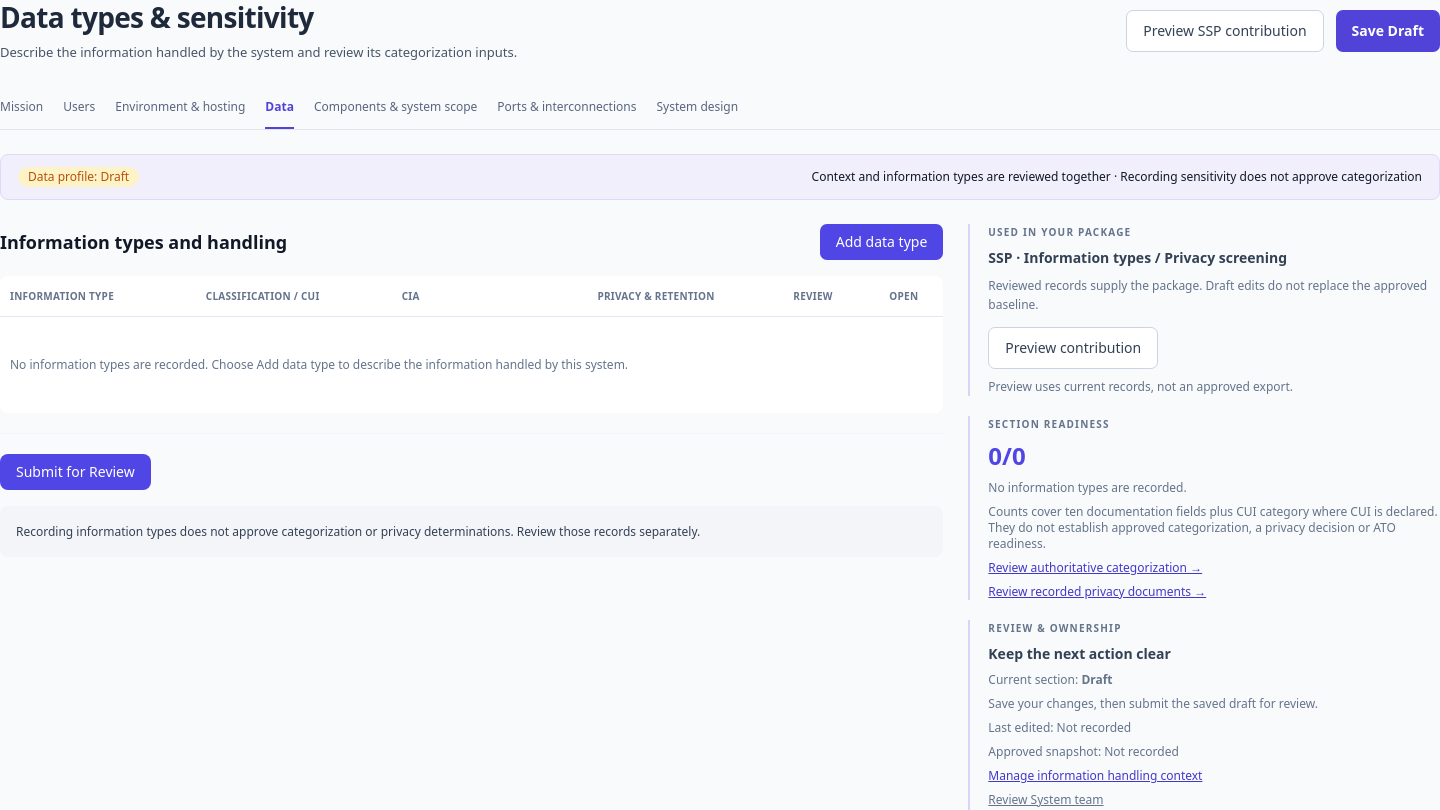
Test: server-authoritative profile editing (#968) › opens Data context separately from individual information types
The image size is (1440, 810).
Click the button "Manage information handling context" at point(1095, 776), box x1=988 y1=768 x2=1202 y2=784
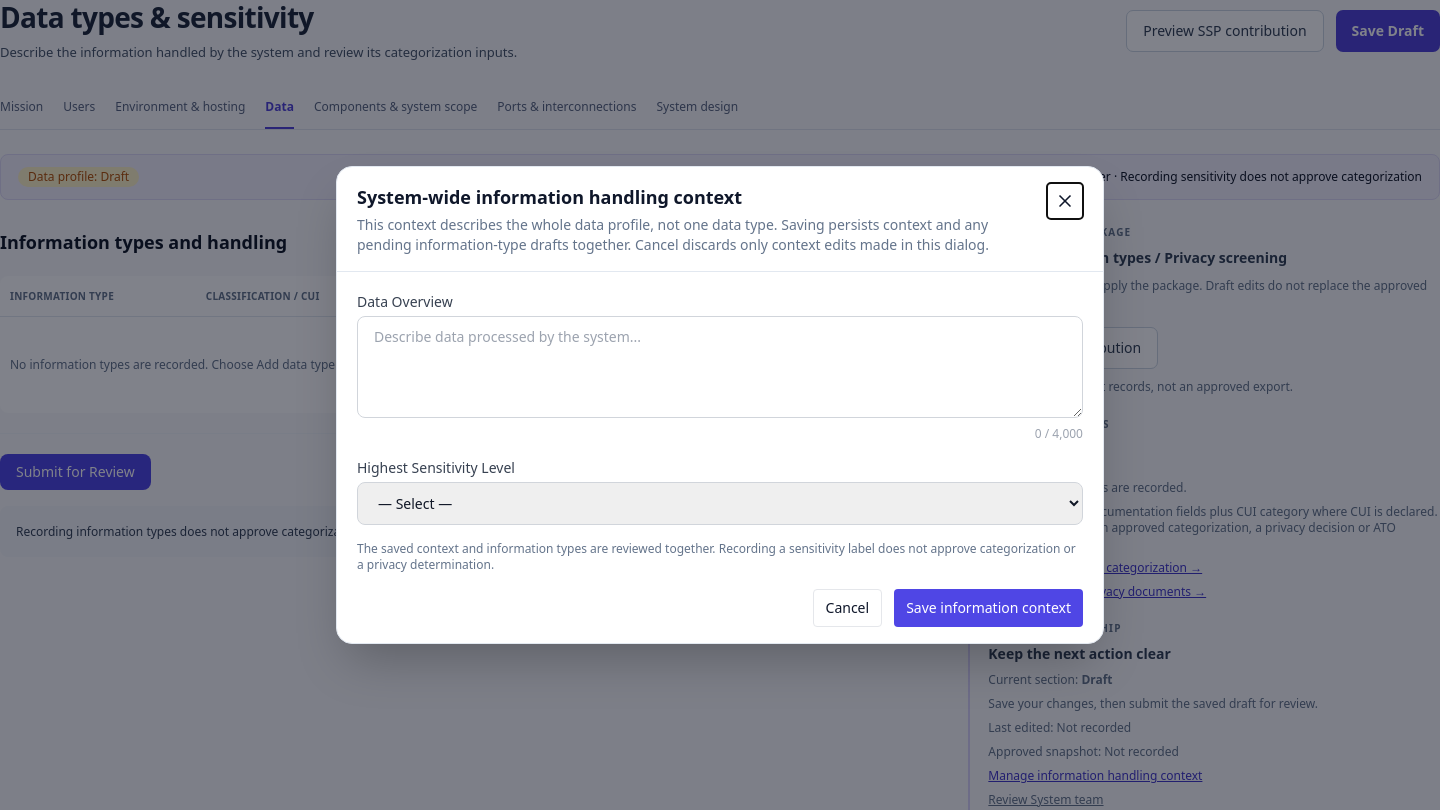
Expected: the text box labelled "Data Overview" is shown, x1=357 y1=316 x2=1083 y2=418
Expected: the dropdown labelled "Highest Sensitivity Level" is shown, x1=357 y1=482 x2=1083 y2=525
